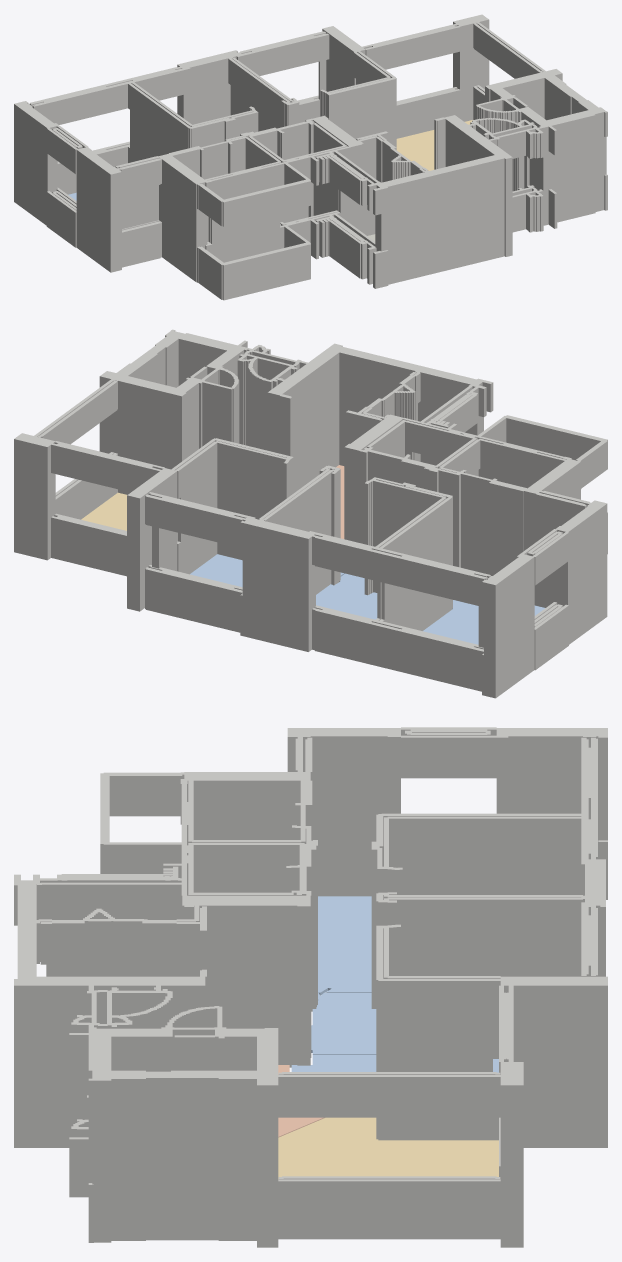
3 renders of one model, top to bottom at view 1: azimuth 30°, elevation 25°; view 2: azimuth 150°, elevation 25°; view 3: azimuth 270°, elevation 25°, orthographic. The views are drawn at different scales.
Visible parts, largest first — view 1: walls, room:living:2; view 2: walls, room:bedroom:1, room:bedroom:0, room:bedroom:3, room:living:2; view 3: walls, room:living:2, room:bedroom:0, room:bedroom:1, room:bedroom:3.
Boxes of the visible parts, bbox=[...] form: walls: bbox=[14, 14, 607, 300]; room:living:2: bbox=[396, 120, 473, 170]; walls: bbox=[14, 329, 607, 698]; room:bedroom:1: bbox=[316, 573, 377, 619]; room:bedroom:0: bbox=[423, 600, 545, 644]; room:bedroom:3: bbox=[190, 554, 344, 587]; room:living:2: bbox=[81, 492, 126, 530]; walls: bbox=[14, 727, 607, 1247]; room:living:2: bbox=[278, 1117, 498, 1178]; room:bedroom:0: bbox=[318, 896, 371, 995]; room:bedroom:1: bbox=[311, 992, 376, 1054]; room:bedroom:3: bbox=[291, 1055, 498, 1072].
Bounding box in the file's own units: 13.25 × 2.8 × 9.29.
